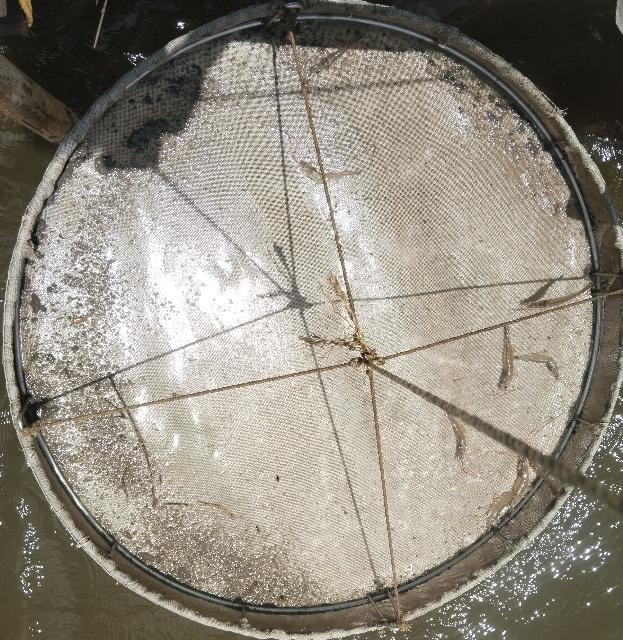shrimp: (488, 461, 525, 531), (525, 282, 593, 308), (301, 160, 361, 183), (515, 351, 559, 381), (509, 463, 531, 517), (499, 326, 515, 390), (447, 412, 466, 458)
